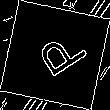P_SW: (23, 26, 87, 84)
